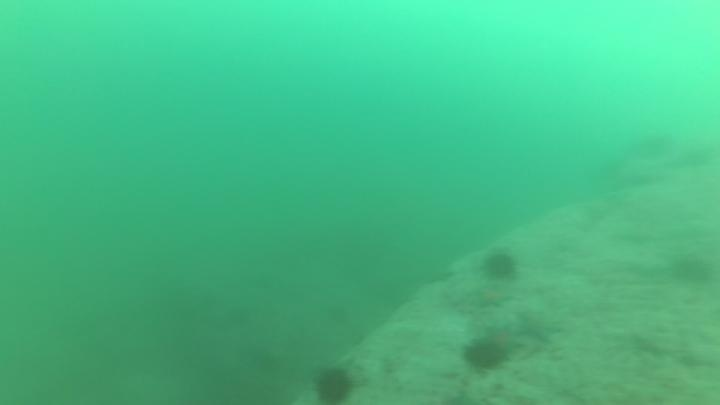echinus: (310, 363, 357, 404), (461, 335, 510, 374), (627, 128, 676, 166), (668, 251, 715, 289), (479, 247, 521, 284)
starfish: (511, 307, 566, 346), (481, 321, 525, 359), (469, 284, 515, 312)
